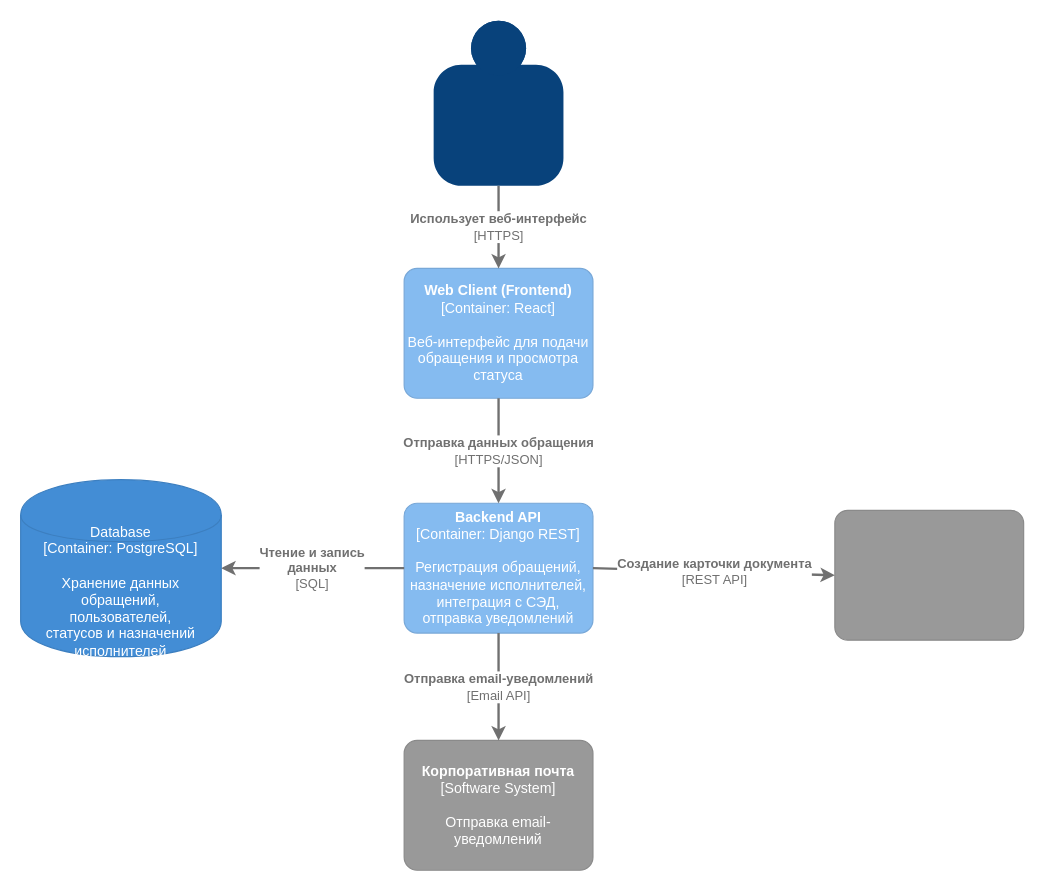
This 1044x891 diagram has some shape labels left out. The shapes that lost their labels are listed below. From the top down, each one's centre as x and y in pixels, then its label:
point (498, 102): Гражданин [Person] Подает обращение и получает уведомление о регистрации
point (929, 574): СЭД НИУ ВШЭ [Software System] Создание карточки обращения / документа
